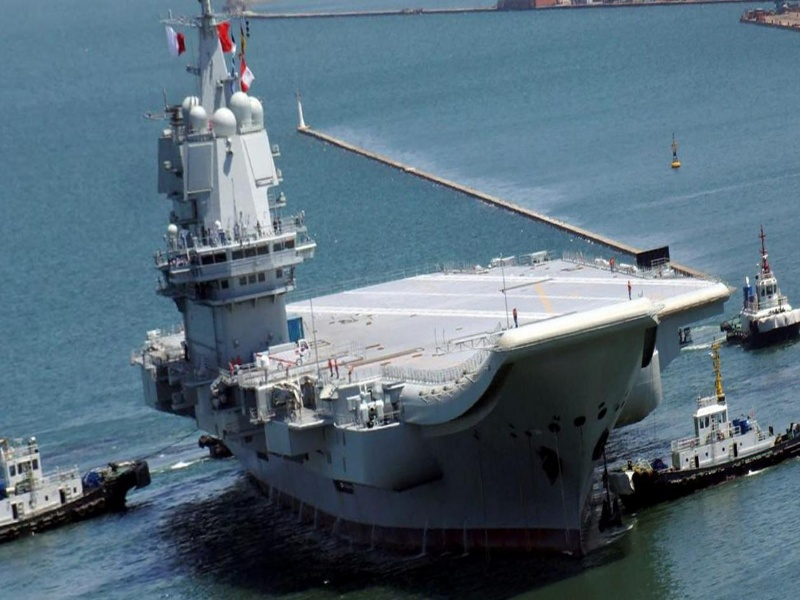boat: (629, 364, 788, 505), (4, 433, 148, 536), (732, 235, 798, 346)
carrier: (157, 45, 695, 563)
